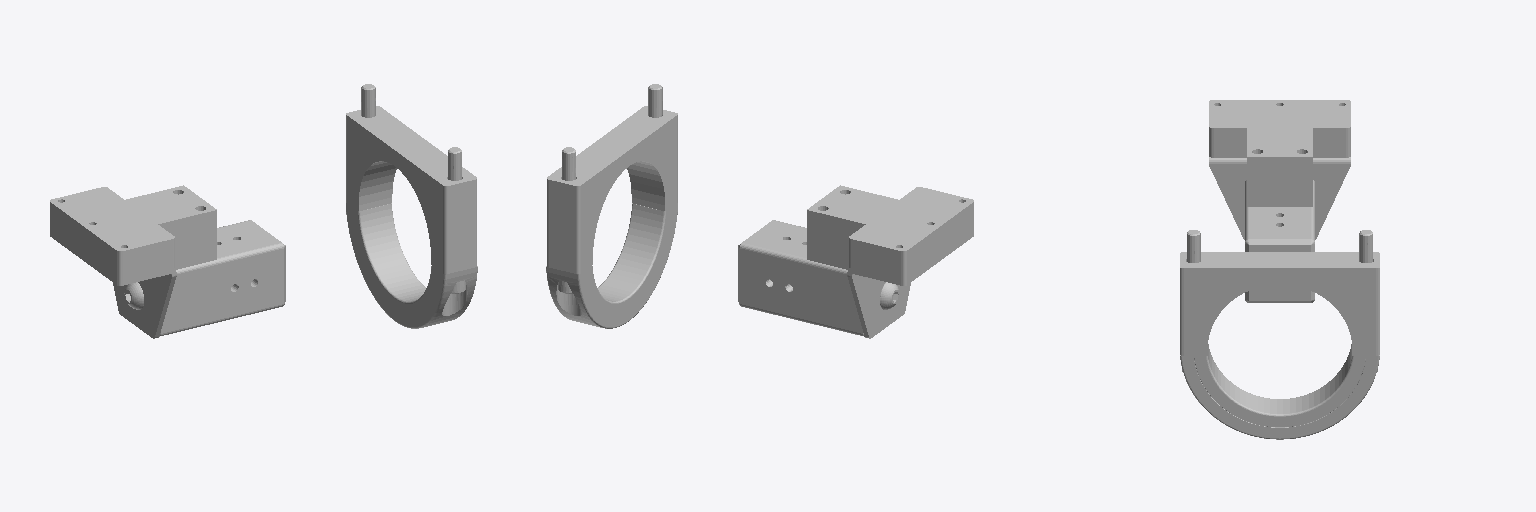
The model's file is right_arm_mount.obj.
The picture shows the model from 3 angles: view 1: azimuth 30°, elevation 25°; view 2: azimuth 150°, elevation 25°; view 3: azimuth 270°, elevation 25°; orthographic projection.
Bounding box in the file's own units: 0.227 × 0.1257 × 0.1143.